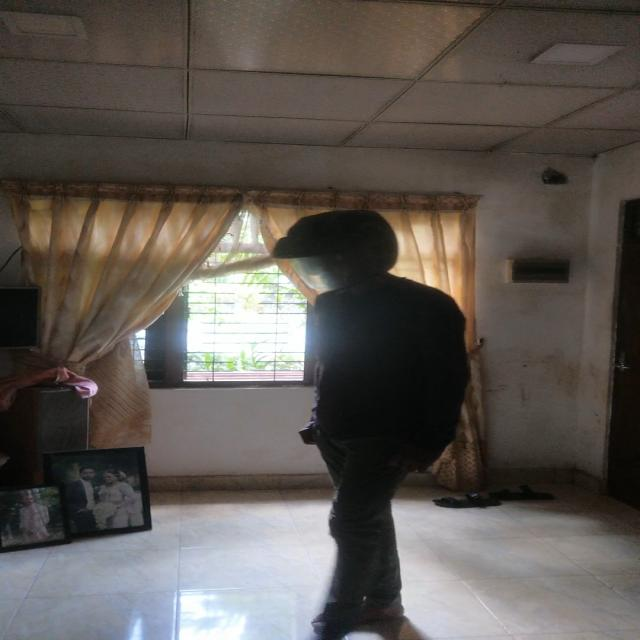Helmet_Wearer: (256, 210, 414, 288)
Person: (236, 202, 478, 639)
